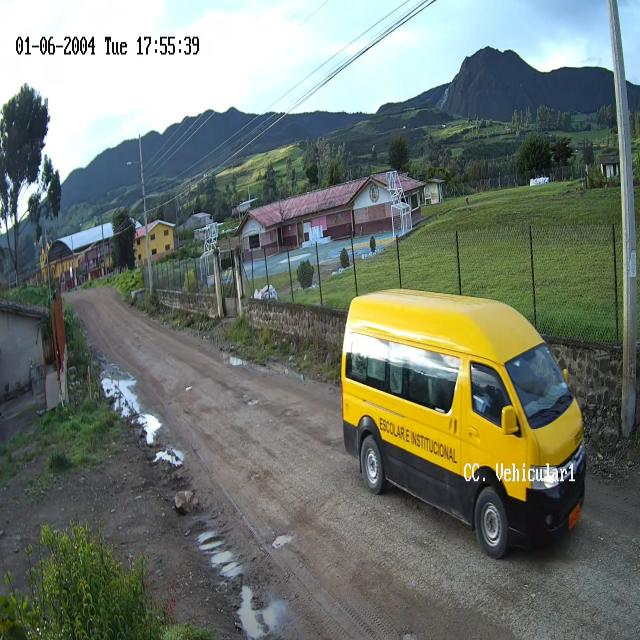BUS: (339, 290, 587, 560)
